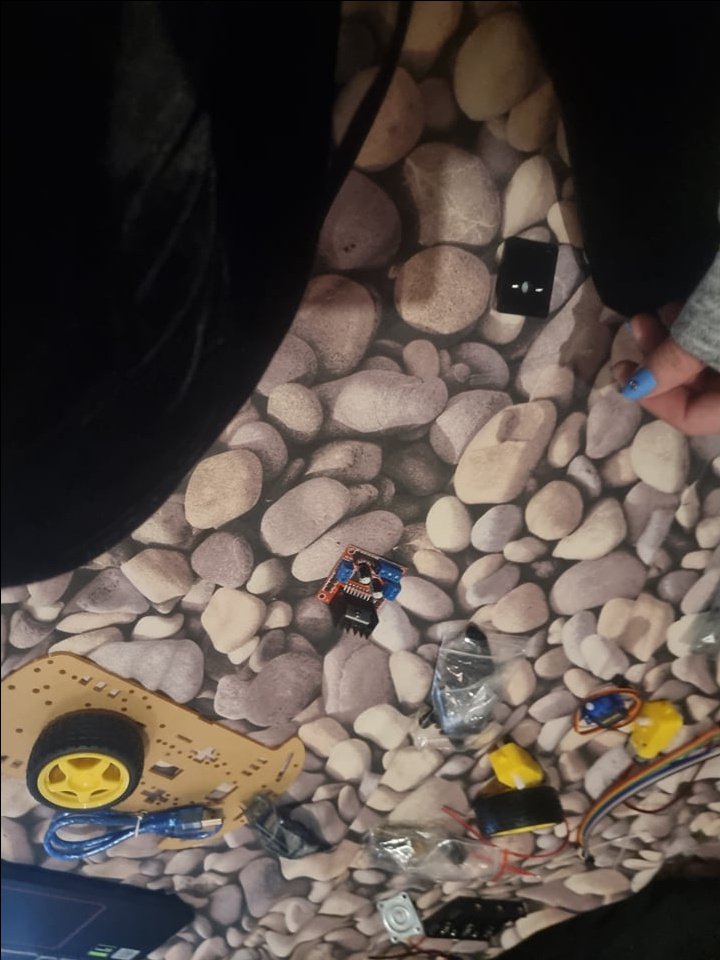BATTERY BOX: (423, 892, 532, 947)
MOTOR: (314, 542, 408, 635)
